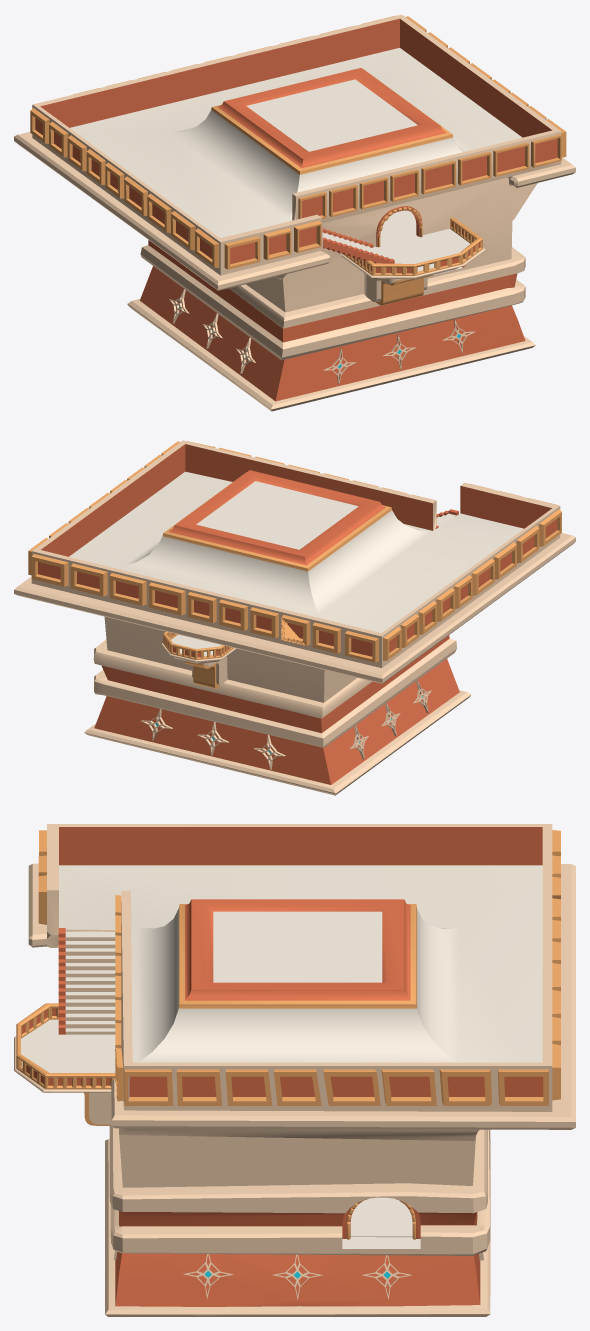
3 renders of one model, top to bottom at view 1: azimuth 30°, elevation 25°; view 2: azimuth 150°, elevation 25°; view 3: azimuth 270°, elevation 25°, orthographic. The views are drawn at different scales.
Parts seen in each view (by area): view 1: Cube.059, Cube.001, Cube.004; view 2: Cube.059, Cube.002; view 3: Cube.059, Cube.001.
Part boxes in pixels (x1,y1,x2,y2): Cube.059: (14, 14, 575, 411); Cube.001: (341, 217, 485, 305); Cube.004: (380, 210, 416, 243); Cube.059: (14, 440, 575, 795); Cube.002: (161, 631, 236, 688); Cube.059: (28, 824, 575, 1316); Cube.001: (14, 1003, 115, 1125).
Bounding box in the file's own units: 9019 × 4786 × 8403.
